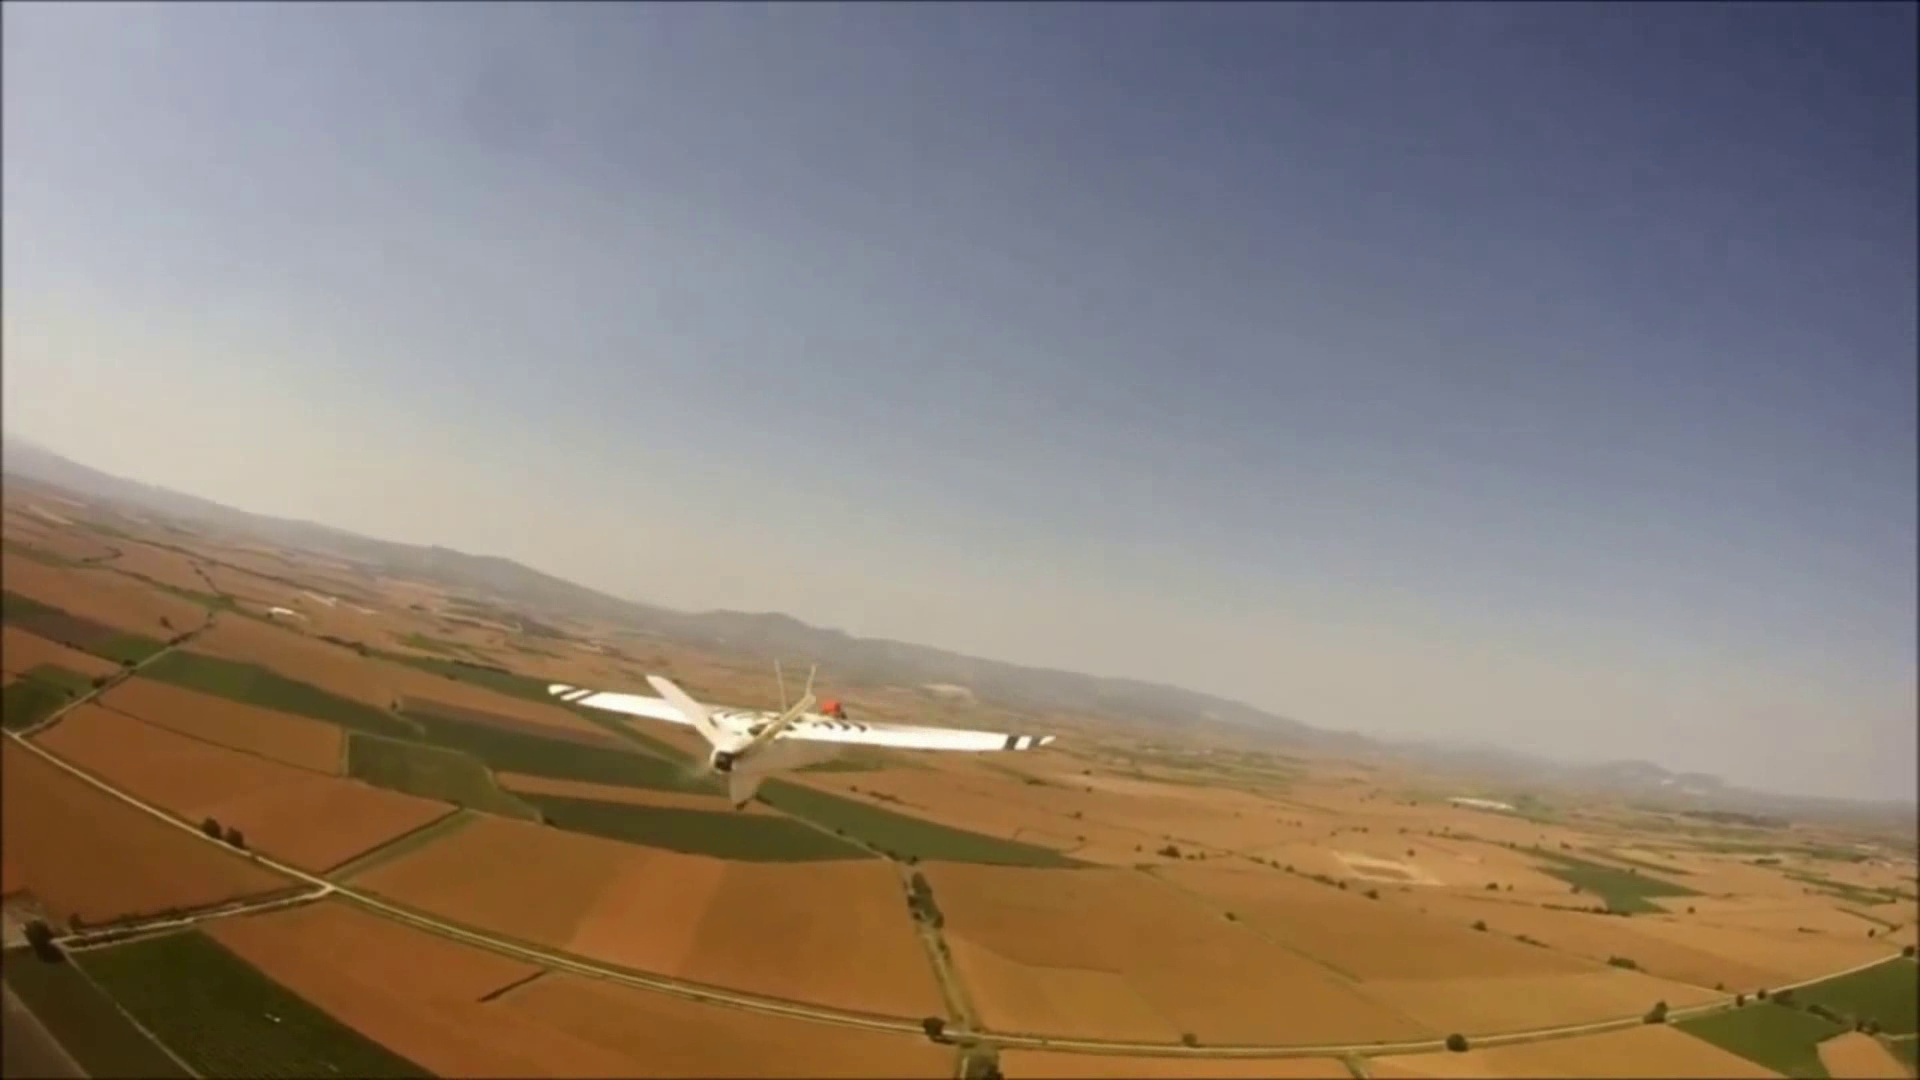airplane: (5, 433, 1887, 1073)
